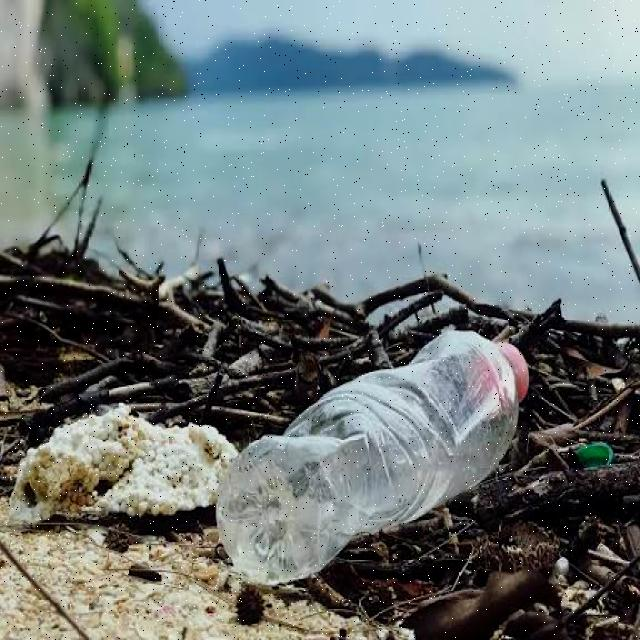plastic: (181, 303, 545, 603)
styrofoam: (0, 389, 234, 573)
